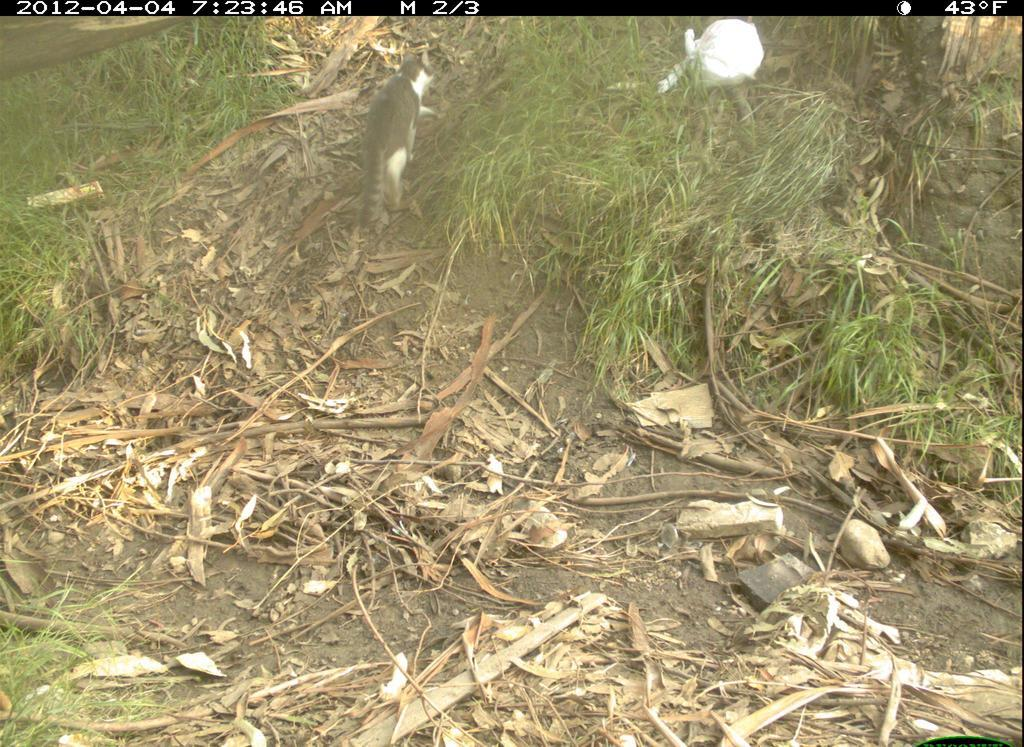cat: (342, 40, 446, 259)
